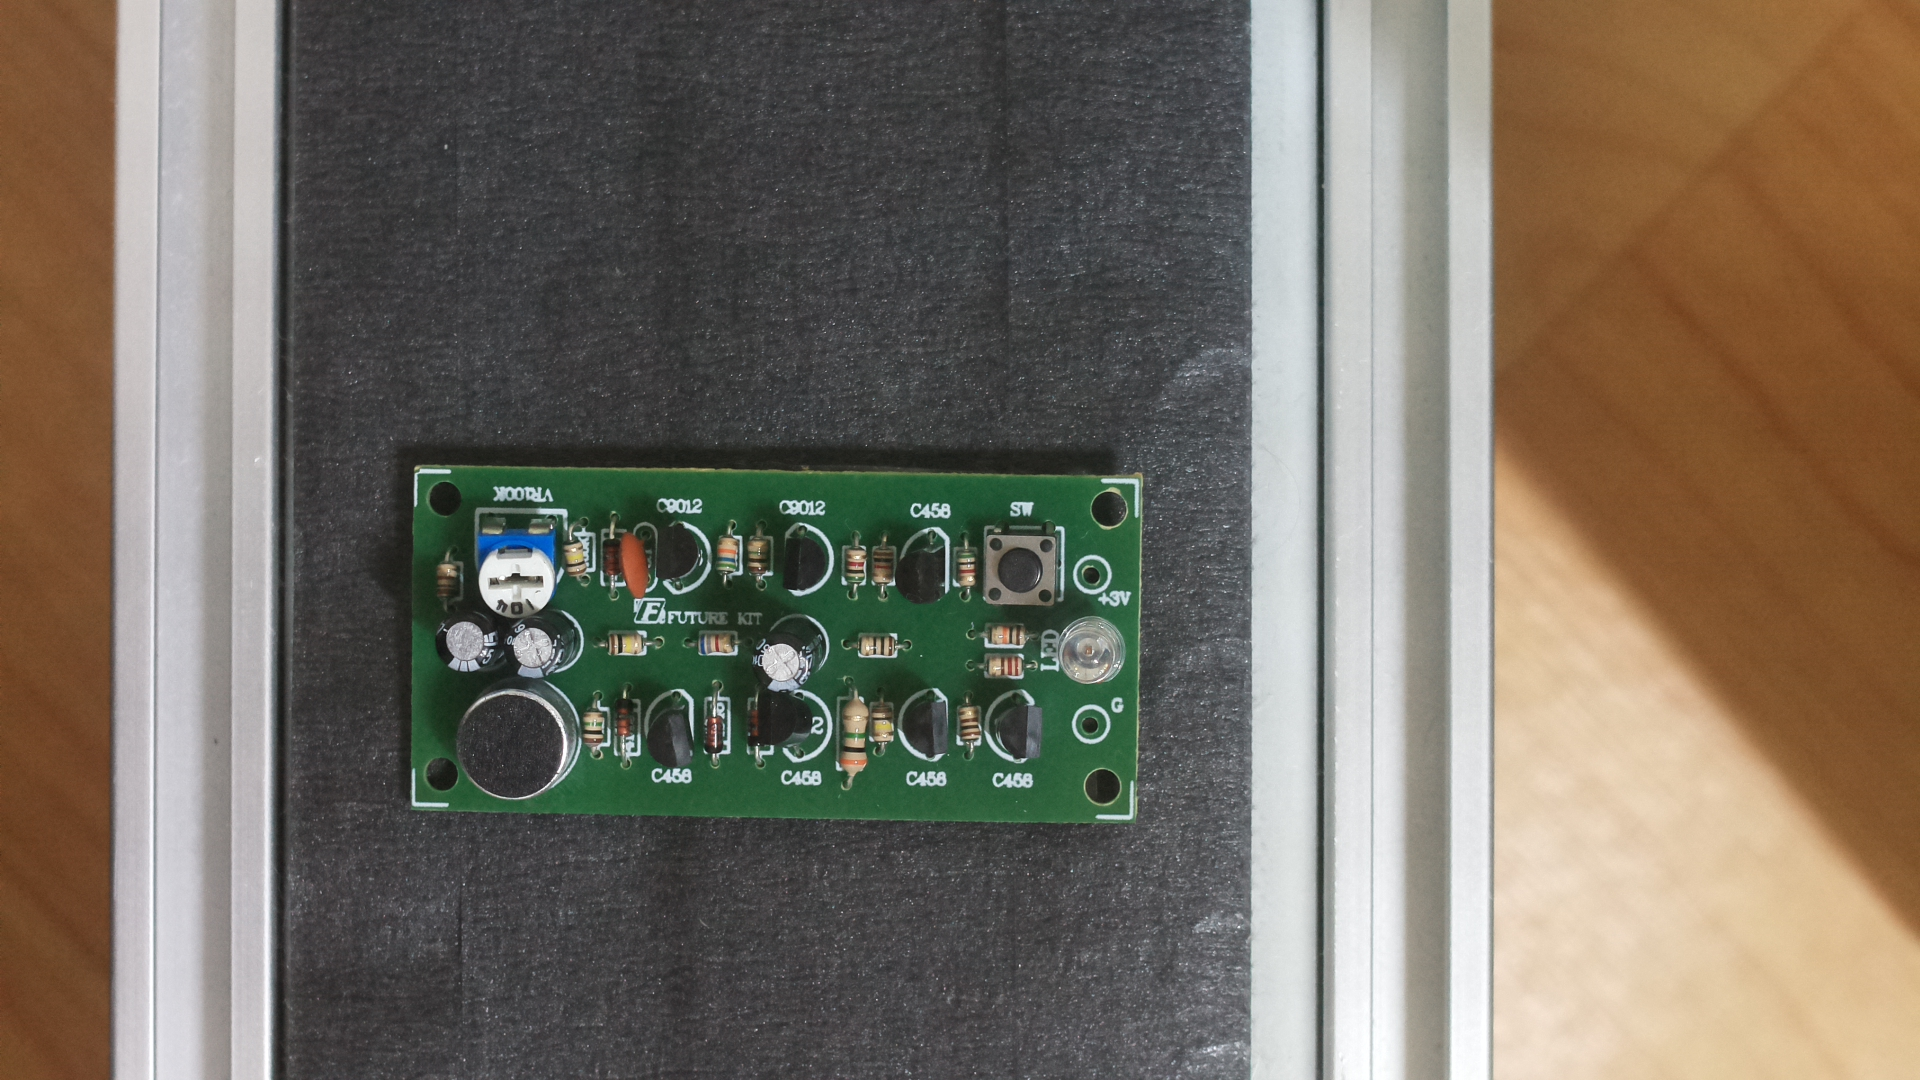A_Normal: (393, 440, 1158, 847)
